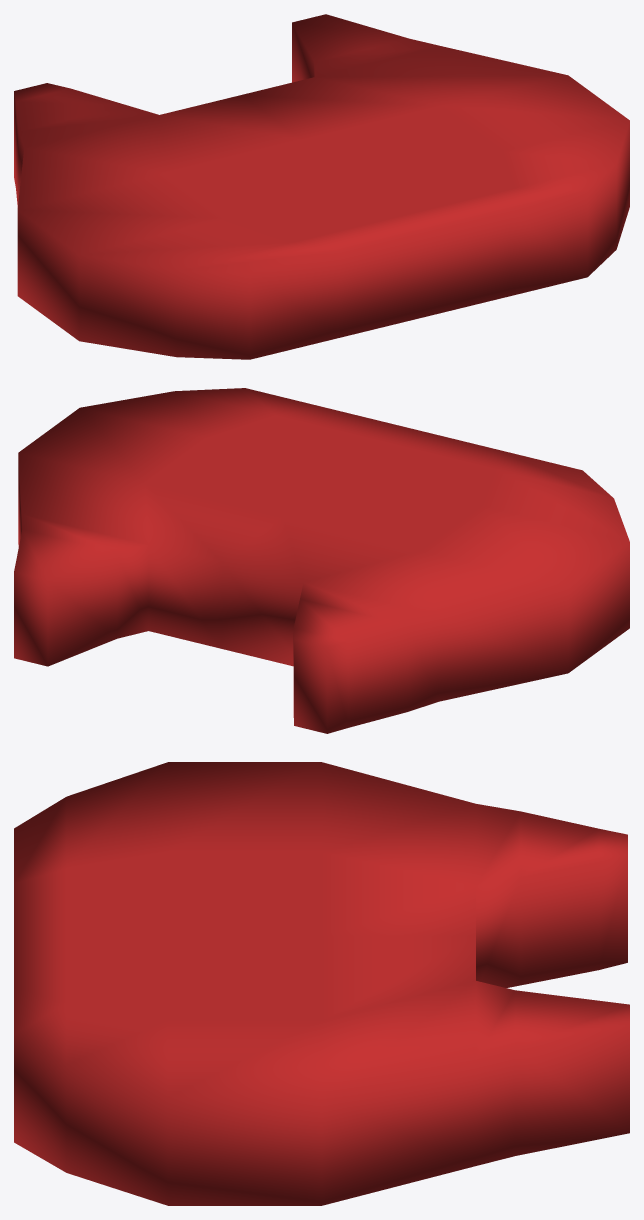
Rendered from mark.glb.
The picture shows the model from 3 angles, top to bottom: view 1: azimuth 30°, elevation 25°; view 2: azimuth 150°, elevation 25°; view 3: azimuth 270°, elevation 25°; orthographic projection. The views are drawn at different scales.
Visible parts, largest first — view 1: Cube; view 2: Cube; view 3: Cube.
Boxes of the visible parts, left/top/right/bottom form: Cube: left=14, top=14, right=629, bottom=359; Cube: left=14, top=388, right=629, bottom=733; Cube: left=14, top=762, right=629, bottom=1205.
Bounding box in the file's own units: 2.13 × 0.3194 × 1.65.
